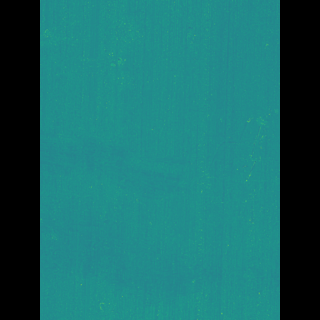Loch: (70, 115, 194, 320), (192, 98, 250, 199)
